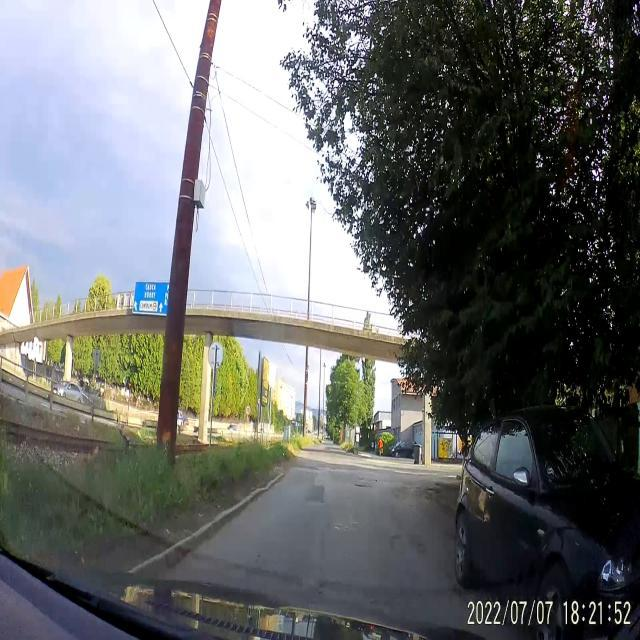Pothole: (353, 481, 377, 491)
